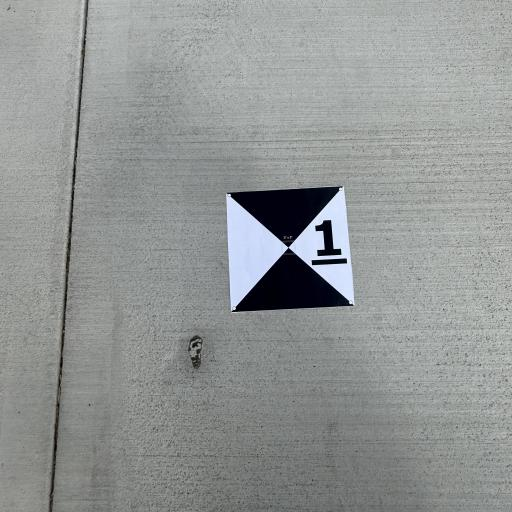target1: (223, 183, 363, 318)
